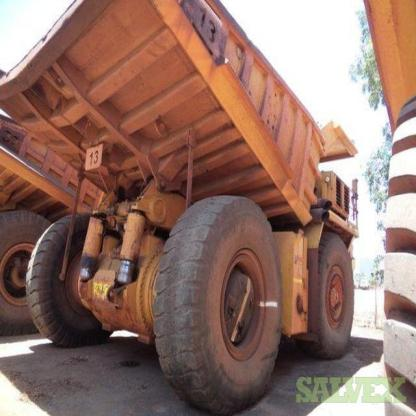dump_truck: (2, 4, 366, 402)
